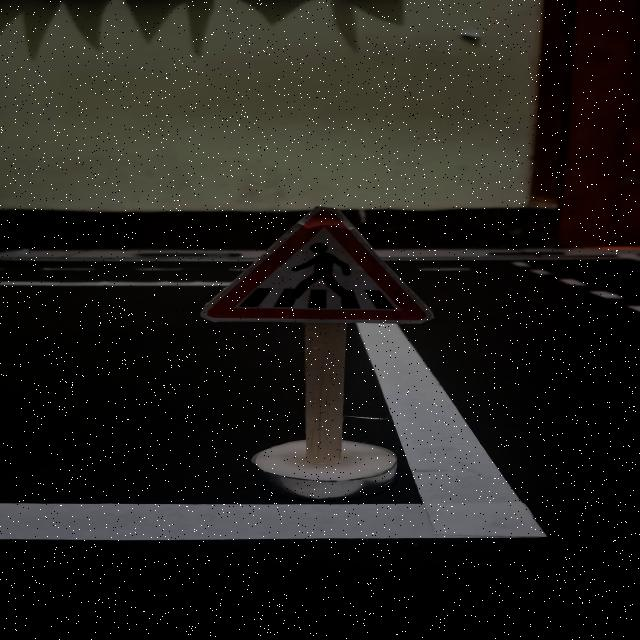Rambu Penyebrangan: (207, 209, 425, 319)
